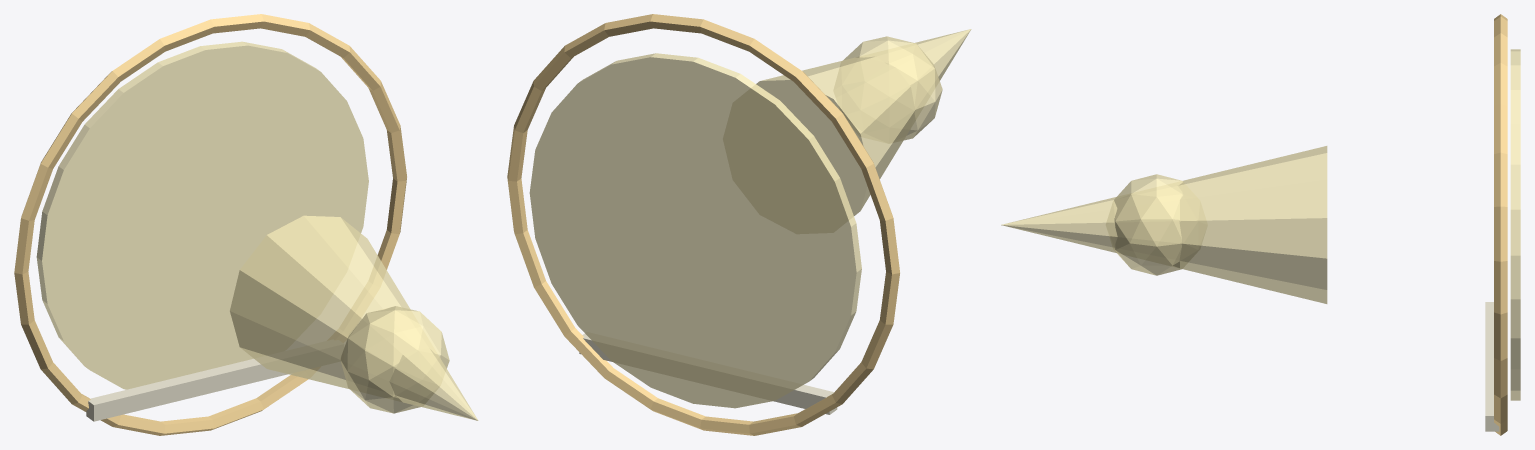
The model's file is 01_ability_vfx_module.glb.
3 renders of one model, left to right at view 1: azimuth 30°, elevation 25°; view 2: azimuth 150°, elevation 25°; view 3: azimuth 270°, elevation 25°, orthographic. The views are drawn at different scales.
Parts seen in each view (by area): view 1: ability_ground_disc, ability_energy_cone, ability_timing_ring, ability_core, directional_flow_mark; view 2: ability_ground_disc, ability_timing_ring, ability_energy_cone, directional_flow_mark, ability_core; view 3: ability_energy_cone, ability_core, ability_timing_ring, ability_ground_disc, directional_flow_mark.
Part boxes in pixels (<box>): ability_ground_disc: <box>36,41,368,389</box>; ability_energy_cone: <box>230,215,478,420</box>; ability_timing_ring: <box>14,14,406,435</box>; ability_core: <box>340,306,449,413</box>; directional_flow_mark: <box>86,340,343,421</box>; ability_ground_disc: <box>529,53,861,408</box>; ability_timing_ring: <box>507,14,899,435</box>; ability_energy_cone: <box>756,29,971,215</box>; directional_flow_mark: <box>579,332,837,414</box>; ability_core: <box>843,36,942,140</box>; ability_energy_cone: <box>1001,146,1327,303</box>; ability_core: <box>1114,174,1183,275</box>; ability_timing_ring: <box>1494,14,1507,435</box>; ability_ground_disc: <box>1510,49,1520,400</box>; directional_flow_mark: <box>1485,302,1499,431</box>.
Size of the model in its own units: 1.49 by 1.49 by 1.83.
